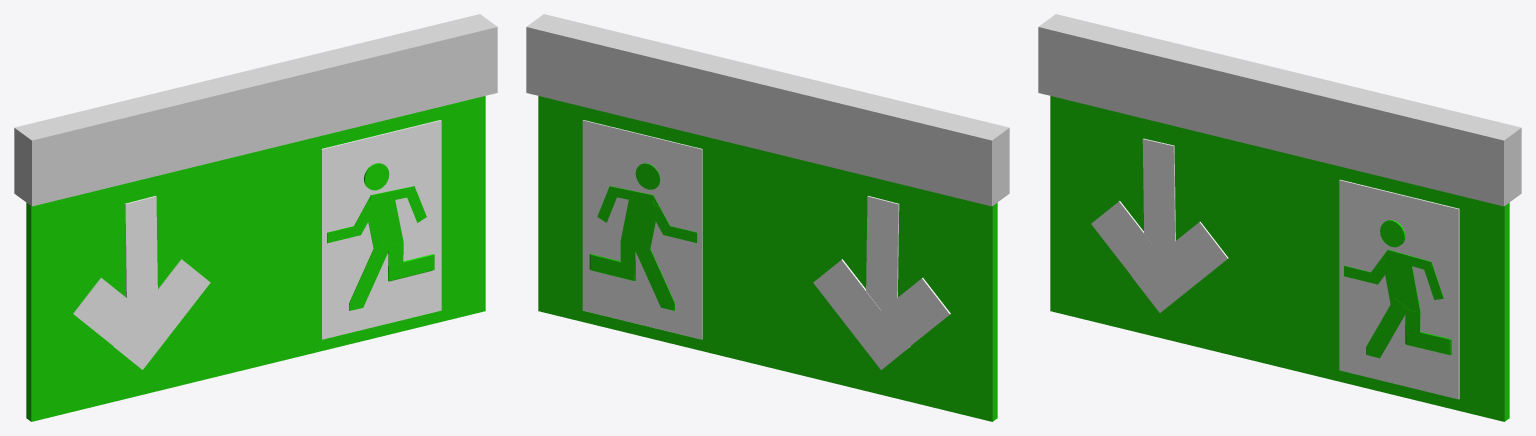
The model's file is NødudgangNed.fbx.
The picture shows the model from 3 angles, left to right: view 1: azimuth 30°, elevation 25°; view 2: azimuth 150°, elevation 25°; view 3: azimuth 330°, elevation 25°; orthographic projection.
Parts seen in each view (by area): view 1: Cube, Cube.001, Cube.002, Cube.007, Cube.003, Cube.006, Cube.008, Cube.011, Cube.010, Cylinder, Cube.012; view 2: Cube, Cube.001, Cube.002, Cube.006, Cube.003, Cube.007, Cube.008, Cube.011, Cube.010, Cylinder; view 3: Cube, Cube.001, Cube.002, Cube.007, Cube.003, Cube.006, Cube.008, Cube.011, Cube.010, Cylinder, Cube.012.
Part boxes in pixels (x1,y1,x2,y2): Cube: (26, 96, 485, 421); Cube.001: (14, 14, 497, 206); Cube.002: (321, 120, 441, 339); Cube.007: (113, 259, 210, 369); Cube.003: (124, 196, 157, 310); Cube.006: (73, 278, 148, 368); Cube.008: (365, 200, 403, 248); Cube.011: (349, 240, 391, 306); Cube.010: (388, 254, 434, 281); Cylinder: (364, 163, 389, 190); Cube.012: (370, 186, 414, 204); Cube: (538, 96, 997, 421); Cube.001: (526, 14, 1009, 206); Cube.002: (582, 120, 702, 339); Cube.006: (853, 278, 950, 369); Cube.003: (866, 196, 899, 310); Cube.007: (813, 259, 910, 369); Cube.008: (620, 194, 658, 254); Cube.011: (635, 249, 674, 306); Cube.010: (589, 254, 635, 280); Cylinder: (635, 163, 660, 189); Cube: (1050, 96, 1509, 421); Cube.001: (1038, 14, 1521, 206); Cube.002: (1339, 179, 1459, 399); Cube.007: (1131, 221, 1228, 312); Cube.003: (1142, 138, 1175, 253); Cube.006: (1091, 201, 1167, 308); Cube.008: (1382, 258, 1420, 312); Cube.011: (1366, 298, 1407, 357); Cube.010: (1405, 329, 1451, 355); Cylinder: (1380, 220, 1405, 247); Cube.012: (1387, 249, 1431, 271).
Size of the model in its own units: 177 by 104 by 11.62.
